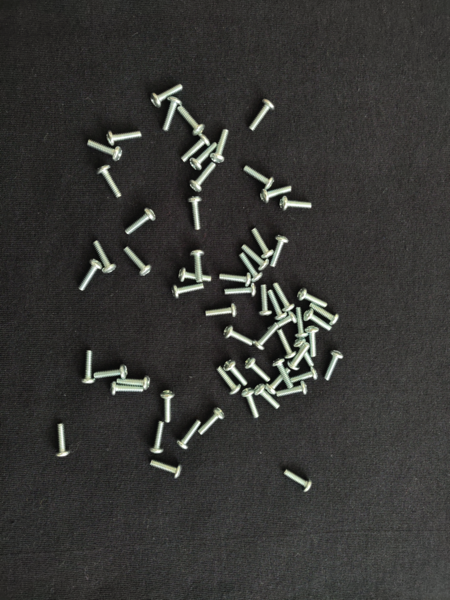shortscrew: (170, 101, 210, 133), (122, 245, 157, 281), (237, 240, 275, 272), (96, 163, 127, 202), (245, 97, 275, 137), (149, 80, 188, 108), (122, 206, 157, 237), (81, 140, 128, 163), (90, 236, 117, 276), (75, 257, 103, 295), (239, 162, 278, 189), (195, 407, 230, 437), (189, 157, 218, 193), (282, 465, 318, 494), (173, 418, 205, 449), (242, 359, 278, 386), (186, 142, 219, 171), (251, 225, 276, 263), (168, 280, 213, 301), (268, 229, 291, 270), (214, 367, 246, 396), (183, 194, 206, 233), (223, 323, 262, 346), (247, 325, 280, 352), (49, 421, 71, 461), (175, 137, 208, 163), (158, 96, 180, 134), (239, 253, 264, 285), (209, 127, 230, 165), (255, 388, 291, 410), (310, 305, 349, 325), (174, 267, 216, 285), (224, 359, 250, 388), (254, 184, 300, 200), (148, 461, 191, 478), (196, 302, 244, 317), (105, 128, 147, 145), (321, 348, 343, 380), (296, 288, 331, 308), (257, 278, 273, 321), (298, 339, 320, 370), (158, 386, 175, 426), (110, 377, 155, 392), (304, 312, 336, 333), (242, 389, 263, 421), (78, 345, 94, 387), (86, 365, 134, 379), (305, 324, 323, 361), (275, 357, 294, 392), (272, 381, 313, 397), (264, 288, 285, 319), (271, 280, 292, 311), (286, 344, 312, 369), (276, 328, 294, 363), (190, 248, 206, 287), (265, 314, 299, 332), (278, 195, 316, 211), (109, 381, 153, 394), (217, 272, 256, 284), (220, 286, 262, 297), (288, 372, 321, 386), (151, 422, 164, 455), (294, 301, 304, 341)
